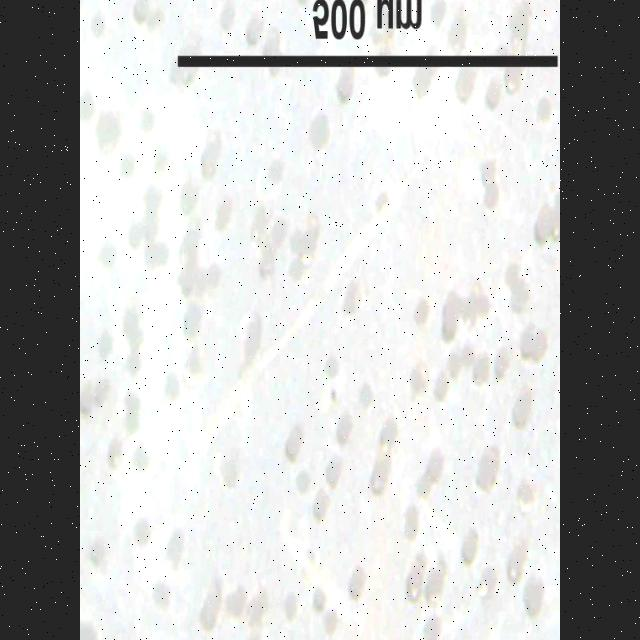Fibre: (190, 164, 416, 468)
